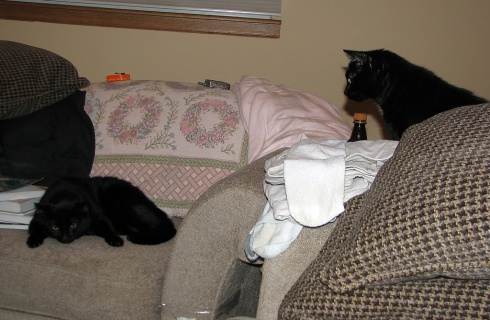Cat: (340, 47, 488, 141), (25, 177, 176, 247)
